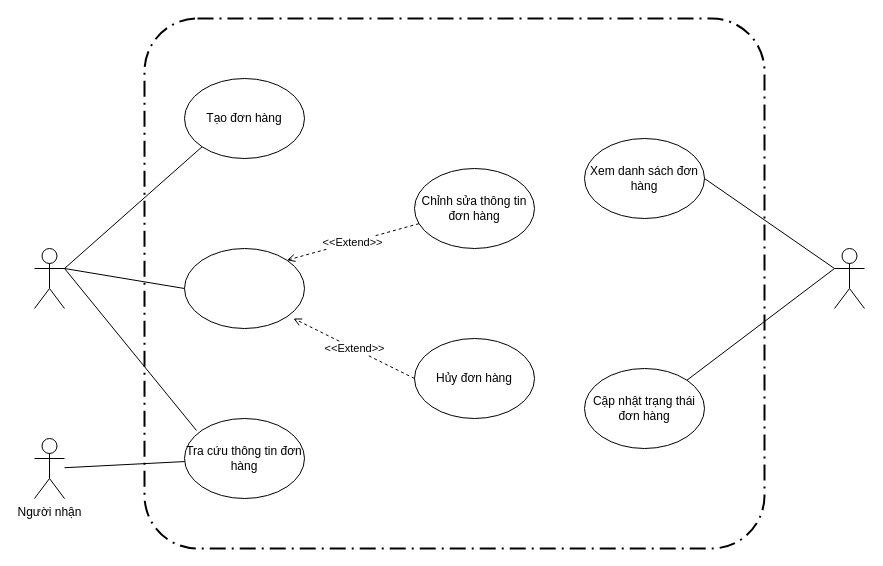
Image size: 883x566. Some labels were removed from this diagram. Each missing label, with the box of its shape:
Người gửi: (34, 248, 64, 308)
Quản lý đơn hàng: (184, 248, 304, 328)
Tài xế: (834, 248, 864, 308)
